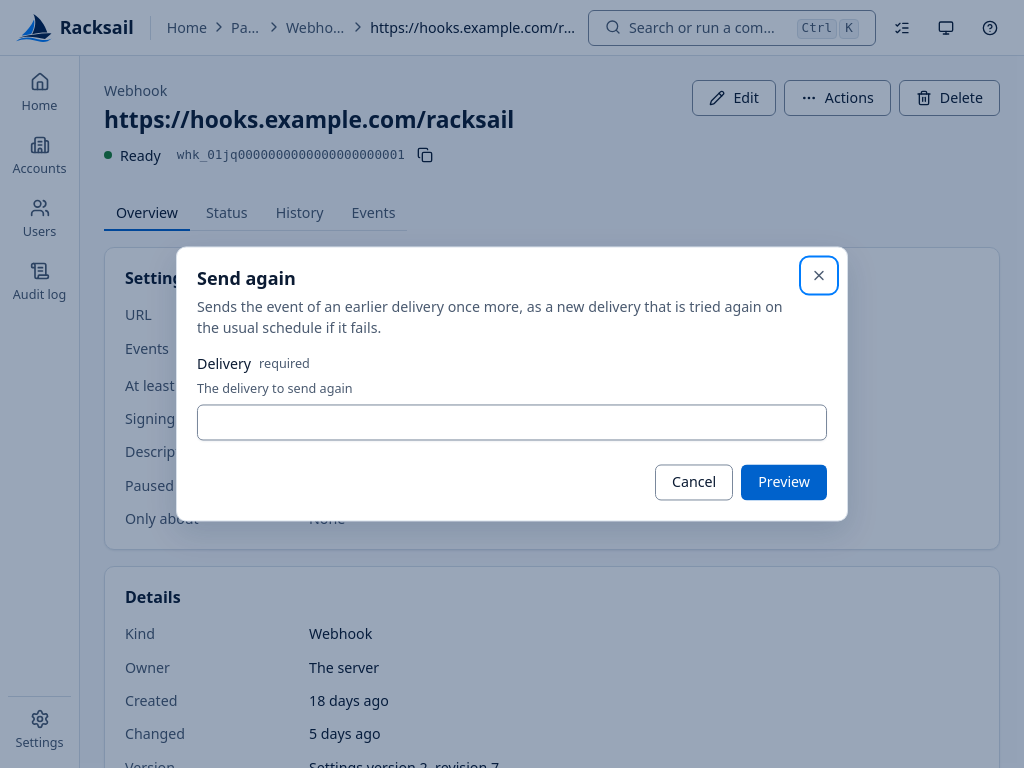
Test: a resource's page › goes back to an action's input as it was typed when the preview fails
Type "dlv_9" into the field labelled "Delivery required". click: (512, 422)
box: [197,404,827,440]
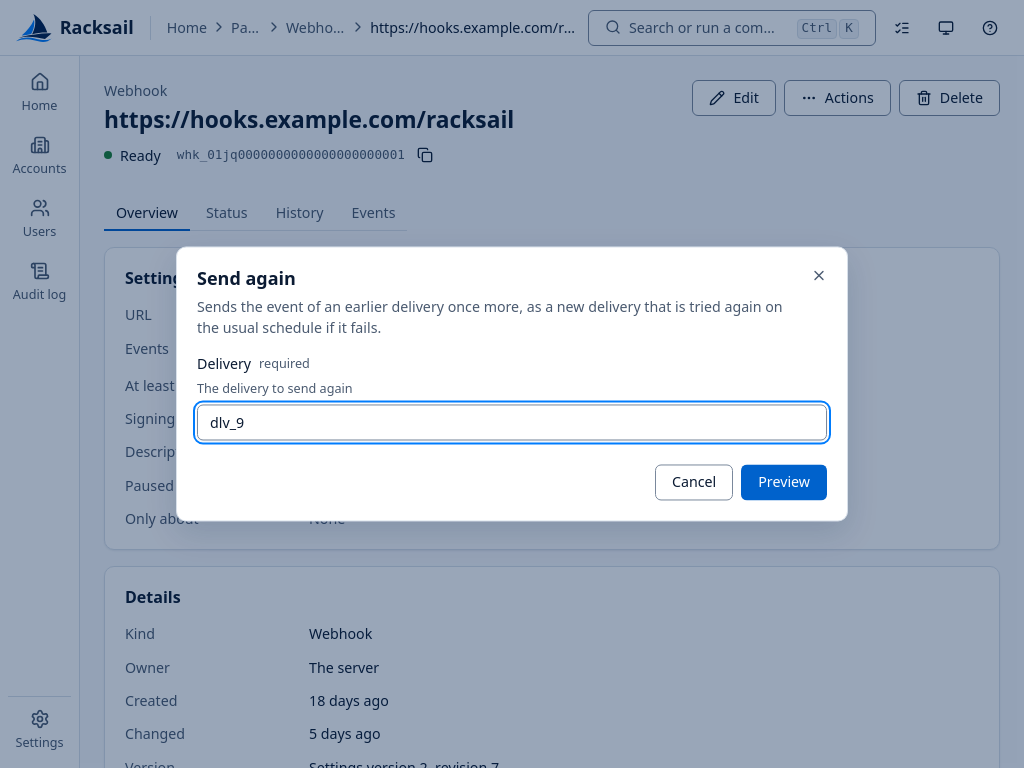
Click the button "Preview". click: (784, 482)
box: [741,464,827,500]
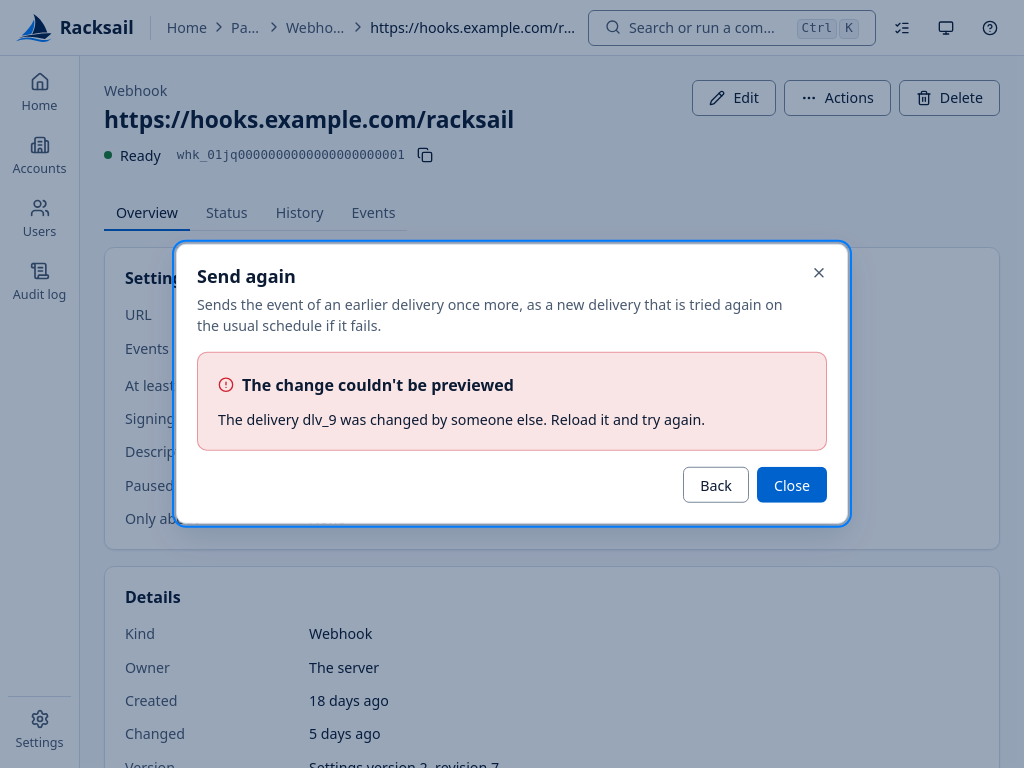
Check: the text "The change couldn't be previewed" is shown, box [218,373,514,397]
Click the button "Back". click: (716, 485)
box: [683,467,749,503]
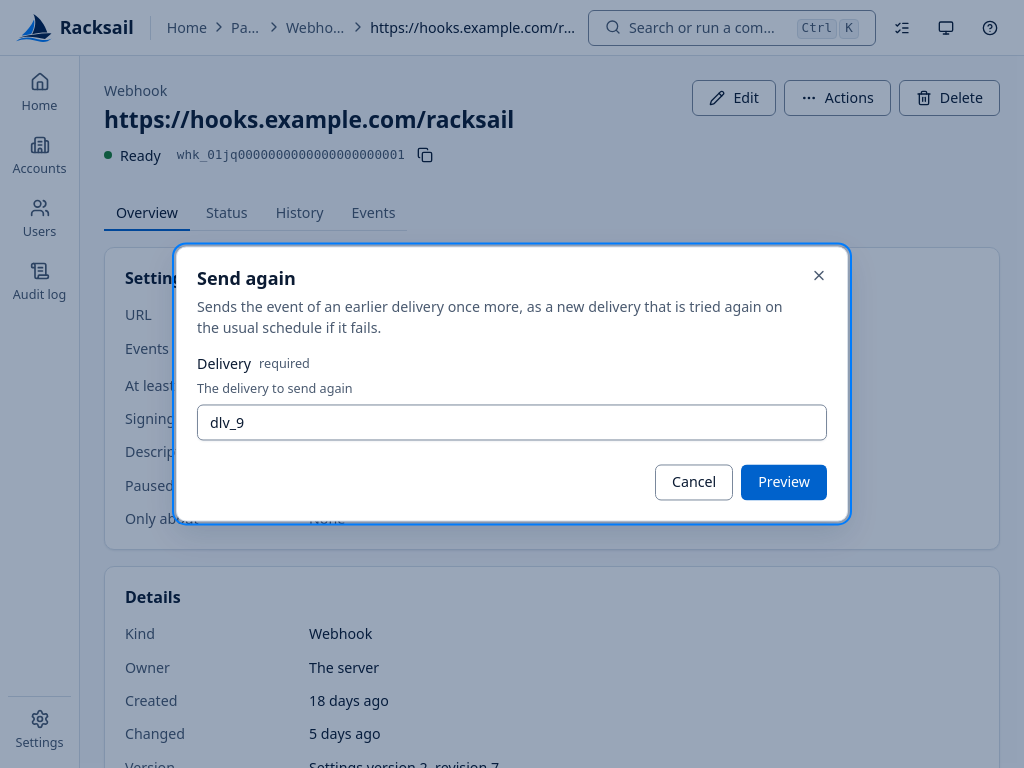
Check: the field labelled "Delivery required" holds "dlv_9", box [197,404,827,440]
